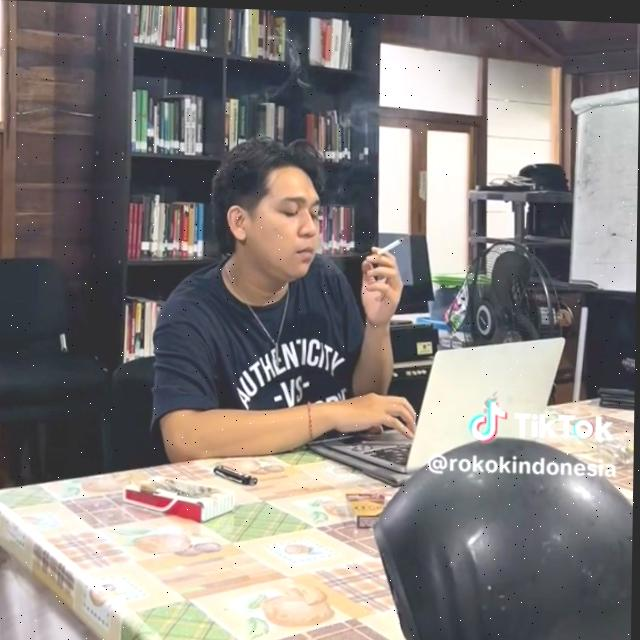cigarette: (378, 233, 406, 252)
